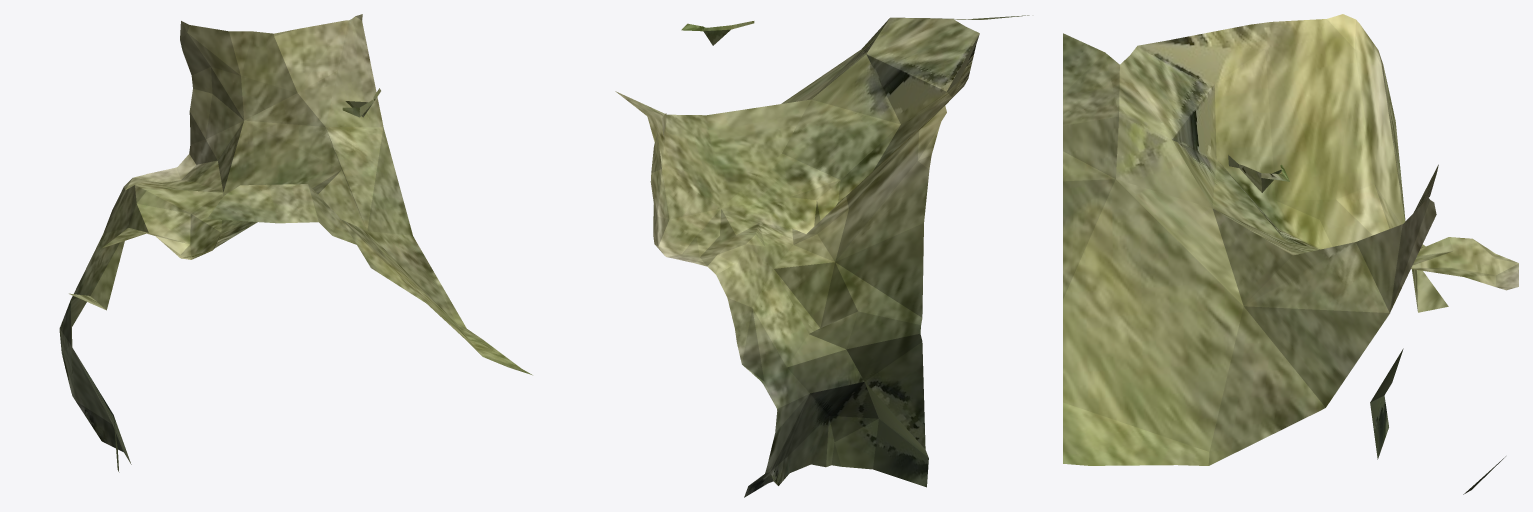
3 views of the same model, side by side, from view 1: azimuth 30°, elevation 25°; view 2: azimuth 150°, elevation 25°; view 3: azimuth 270°, elevation 25° (orthographic). The views are drawn at different scales.
Size of the model in its own units: 2.95 by 2.95 by 2.95.
Materials: 4 (4 with a texture image).
